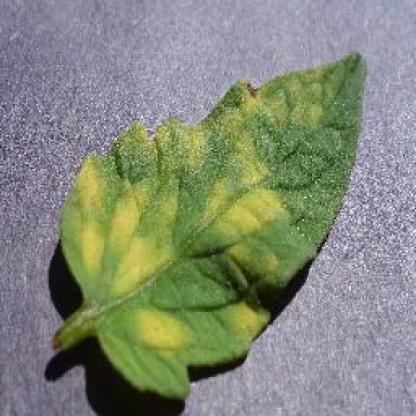Tomato_Leaf_Mold: (63, 54, 365, 392)
